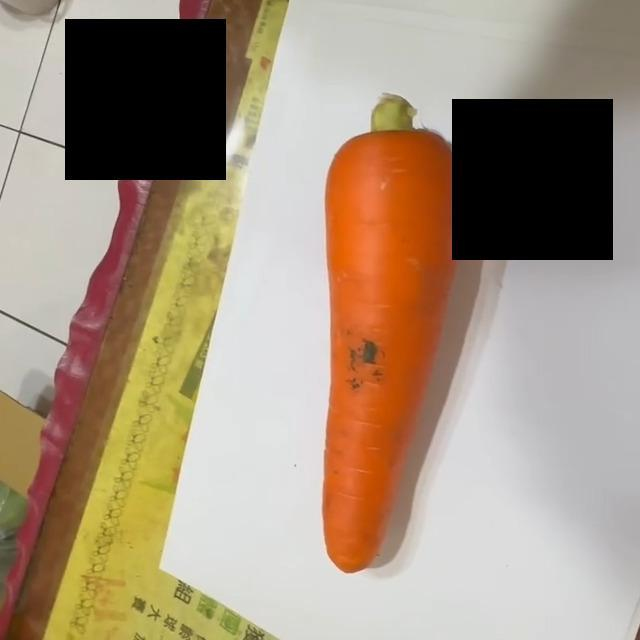carrot: (320, 94, 466, 572)
